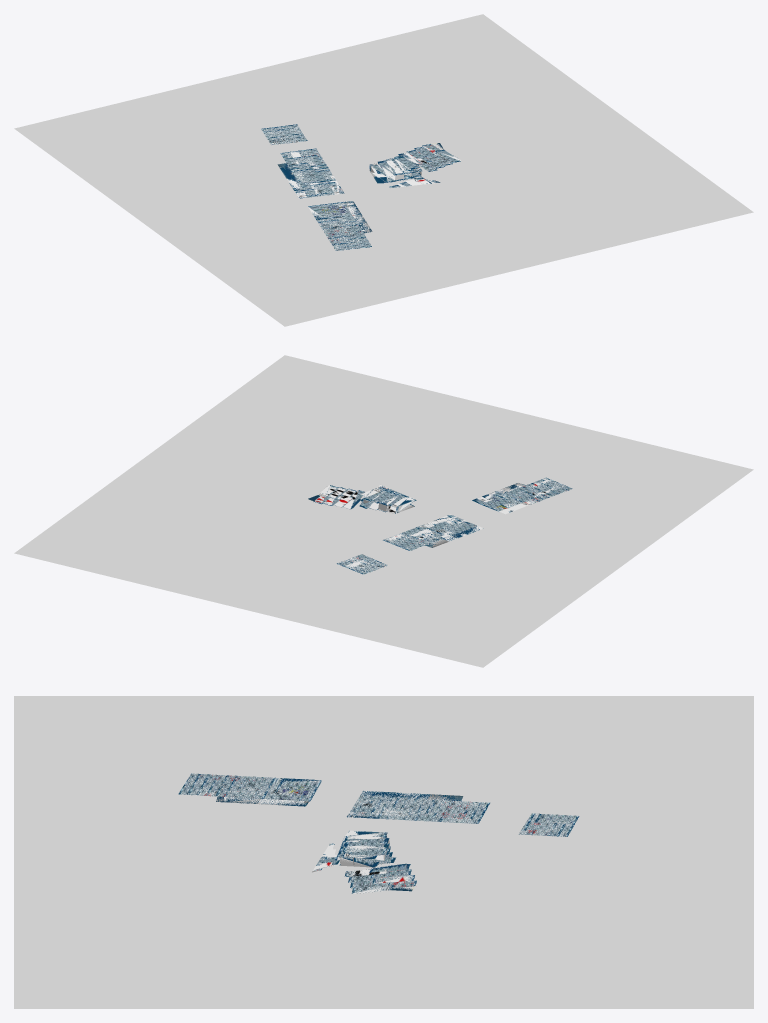
The model's file is cards-transformed.glb.
3 views of the same model, one above another, from view 1: azimuth 30°, elevation 25°; view 2: azimuth 150°, elevation 25°; view 3: azimuth 270°, elevation 25° (orthographic). The views are drawn at different scales.
Parts seen in each view (by area): view 1: Plane, 1_clubs; view 2: Plane, 1_clubs; view 3: Plane, 1_clubs.
Part boxes in pixels (x1,y1,x2,y2): Plane: (14,14,753,326); 1_clubs: (261,124,460,250); Plane: (14,355,753,667); 1_clubs: (308,477,572,574); Plane: (14,696,753,1008); 1_clubs: (178,773,579,893).
Bounding box in the file's own units: 4.61 × 0.1053 × 4.61.
1 material, 1 textured.
